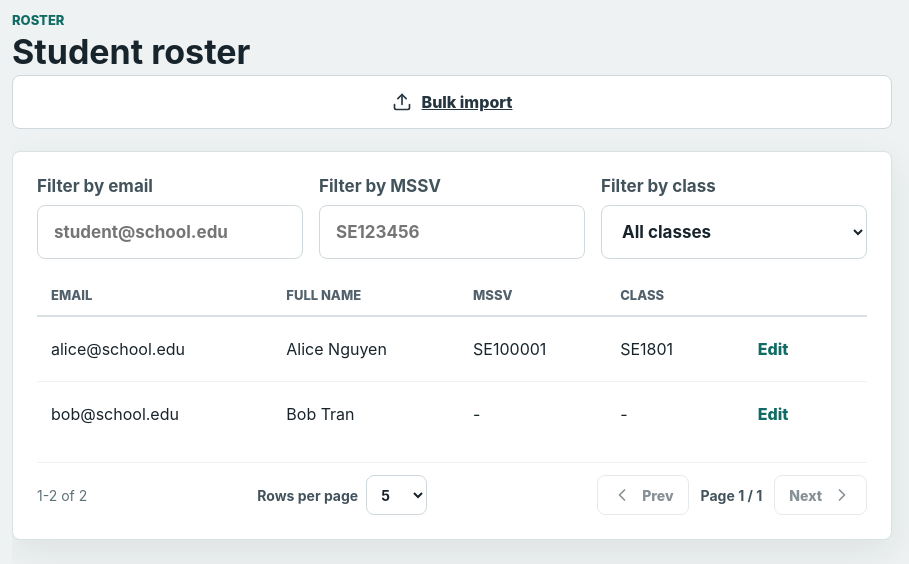
Scenario: RosterPage › filters students by MSSV
This screenshot has width=909, height=564.
expect the text "alice@school.edu" is shown: met, box [37,316,272,382]
Type "SE1000" into the field with placeholder "SE123456" at [452, 232], box [319,205,585,259]
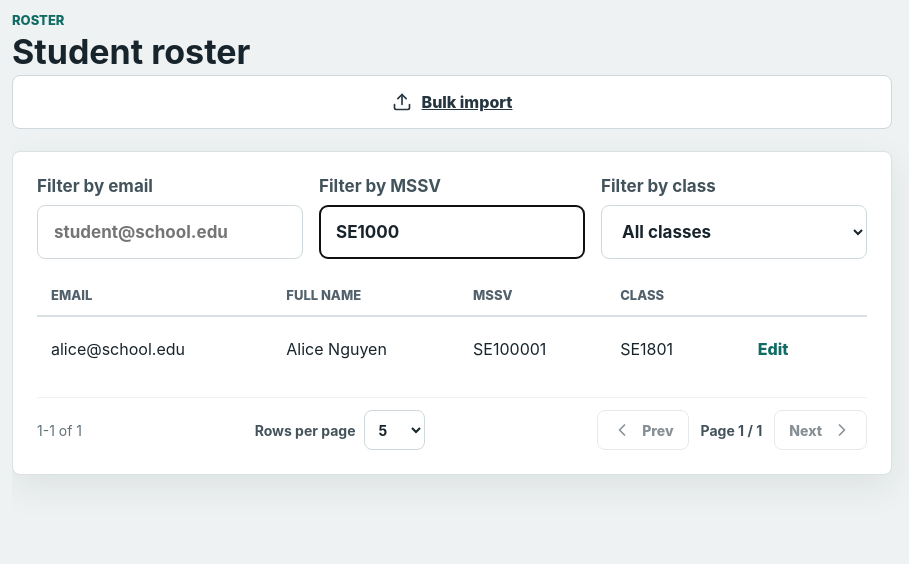
expect the text "alice@school.edu" is shown: met, box [37,316,272,381]
expect the text "bob@school.edu" is gone: met
